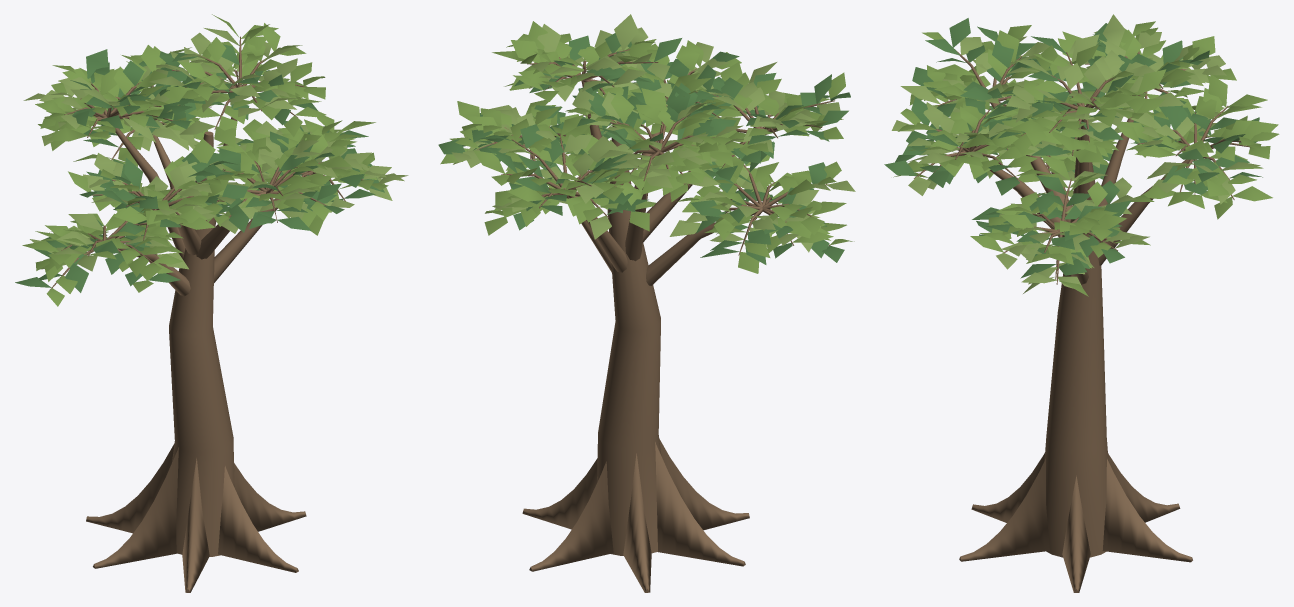
File: 054_flared_buttress_tree.glb
The picture shows the model from 3 angles, left to right: view 1: azimuth 30°, elevation 25°; view 2: azimuth 150°, elevation 25°; view 3: azimuth 270°, elevation 25°; orthographic projection. The views are drawn at different scales.
Visible parts, largest first — view 1: Buttress_trunk, TRE-054_buttress_roots, Buttress_leaf_cluster_544, Buttress_leaf_cluster_545, Buttress_leaf_cluster_543, Buttress_leaf_cluster_546, Buttress_leaf_cluster_540, Buttress_leaf_cluster_541, TRE-054_boughs, TRE-054_twigs, Buttress_leaf_cluster_542; view 2: Buttress_trunk, TRE-054_buttress_roots, Buttress_leaf_cluster_543, Buttress_leaf_cluster_540, Buttress_leaf_cluster_542, Buttress_leaf_cluster_546, Buttress_leaf_cluster_544, Buttress_leaf_cluster_541, TRE-054_boughs, TRE-054_twigs, Buttress_leaf_cluster_545; view 3: Buttress_trunk, Buttress_leaf_cluster_544, Buttress_leaf_cluster_541, Buttress_leaf_cluster_542, TRE-054_buttress_roots, Buttress_leaf_cluster_545, Buttress_leaf_cluster_546, Buttress_leaf_cluster_543, TRE-054_twigs, TRE-054_boughs, Buttress_leaf_cluster_540.
Boxes of the visible parts, bbox=[...] form: Buttress_trunk: bbox=[169, 131, 234, 556]; TRE-054_buttress_roots: bbox=[86, 443, 306, 592]; Buttress_leaf_cluster_544: bbox=[149, 14, 326, 147]; Buttress_leaf_cluster_545: bbox=[203, 128, 363, 235]; Buttress_leaf_cluster_543: bbox=[23, 45, 190, 150]; Buttress_leaf_cluster_546: bbox=[68, 138, 248, 247]; Buttress_leaf_cluster_540: bbox=[15, 176, 188, 306]; Buttress_leaf_cluster_541: bbox=[217, 115, 408, 212]; TRE-054_boughs: bbox=[115, 117, 279, 296]; TRE-054_twigs: bbox=[48, 36, 363, 291]; Buttress_leaf_cluster_542: bbox=[73, 47, 230, 166]; Buttress_trunk: bbox=[597, 124, 661, 555]; TRE-054_buttress_roots: bbox=[522, 439, 749, 592]; Buttress_leaf_cluster_543: bbox=[565, 73, 743, 205]; Buttress_leaf_cluster_540: bbox=[669, 141, 855, 273]; Buttress_leaf_cluster_542: bbox=[473, 115, 655, 239]; Buttress_leaf_cluster_546: bbox=[664, 62, 850, 192]; Buttress_leaf_cluster_544: bbox=[492, 14, 681, 128]; Buttress_leaf_cluster_541: bbox=[438, 100, 610, 203]; TRE-054_boughs: bbox=[566, 81, 756, 285]; TRE-054_twigs: bbox=[477, 49, 834, 255]; Buttress_leaf_cluster_545: bbox=[572, 40, 747, 143]; Buttress_trunk: bbox=[1044, 128, 1108, 557]; Buttress_leaf_cluster_544: bbox=[996, 34, 1166, 162]; Buttress_leaf_cluster_541: bbox=[970, 155, 1154, 296]; Buttress_leaf_cluster_542: bbox=[1117, 75, 1279, 219]; TRE-054_buttress_roots: bbox=[959, 453, 1192, 592]; Buttress_leaf_cluster_545: bbox=[884, 97, 1056, 195]; Buttress_leaf_cluster_546: bbox=[900, 18, 1063, 156]; Buttress_leaf_cluster_543: bbox=[1058, 14, 1236, 139]; TRE-054_twigs: bbox=[914, 49, 1249, 284]; TRE-054_boughs: bbox=[970, 92, 1189, 284]; Buttress_leaf_cluster_540: bbox=[964, 79, 1117, 196].
Bounding box in the file's own units: 5.78 × 7.2 × 5.15.
